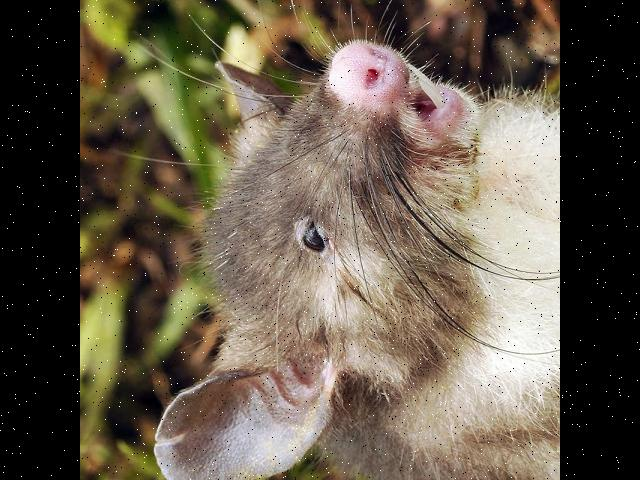Tikus: (150, 29, 560, 480)
